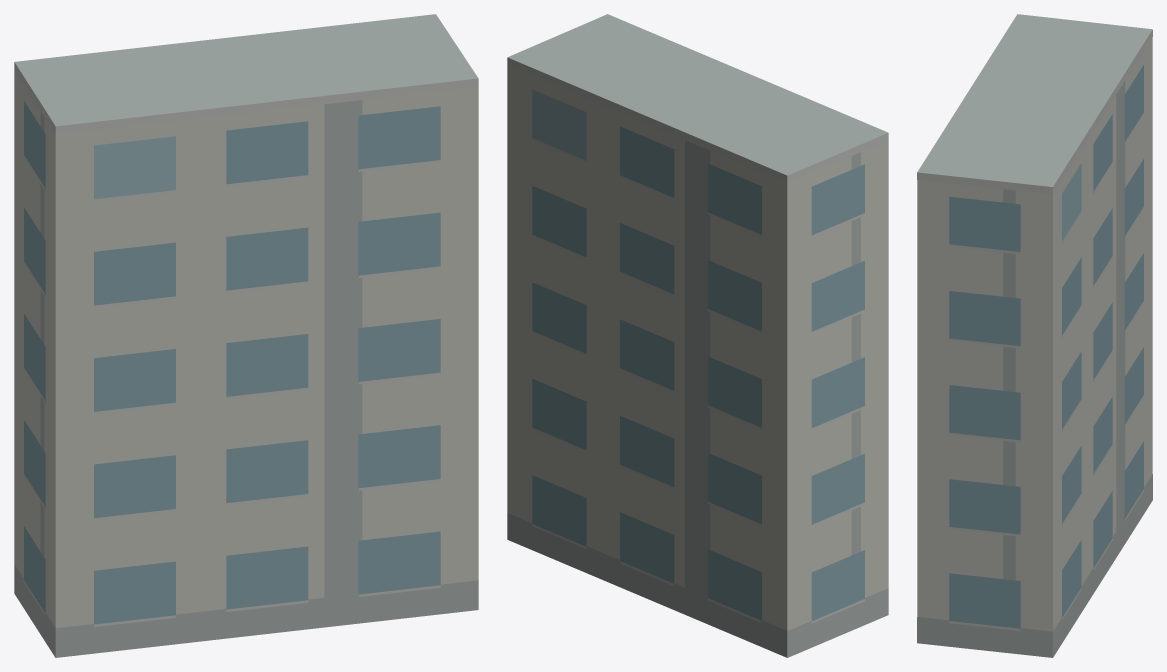
Rendered from survey-upis-32737922.glb.
3 renders of one model, left to right at view 1: azimuth 30°, elevation 25°; view 2: azimuth 150°, elevation 25°; view 3: azimuth 270°, elevation 25°, orthographic. The views are drawn at different scales.
Visible parts, largest first — view 1: survey-upis-32737922.tmp; view 2: survey-upis-32737922.tmp; view 3: survey-upis-32737922.tmp.
Boxes of the visible parts, x1,y1,x2,y2 form: survey-upis-32737922.tmp: (14,14,478,657); survey-upis-32737922.tmp: (507,14,888,657); survey-upis-32737922.tmp: (917,14,1152,657).
Bounding box in the file's own units: 12.03 × 15.25 × 6.93.
